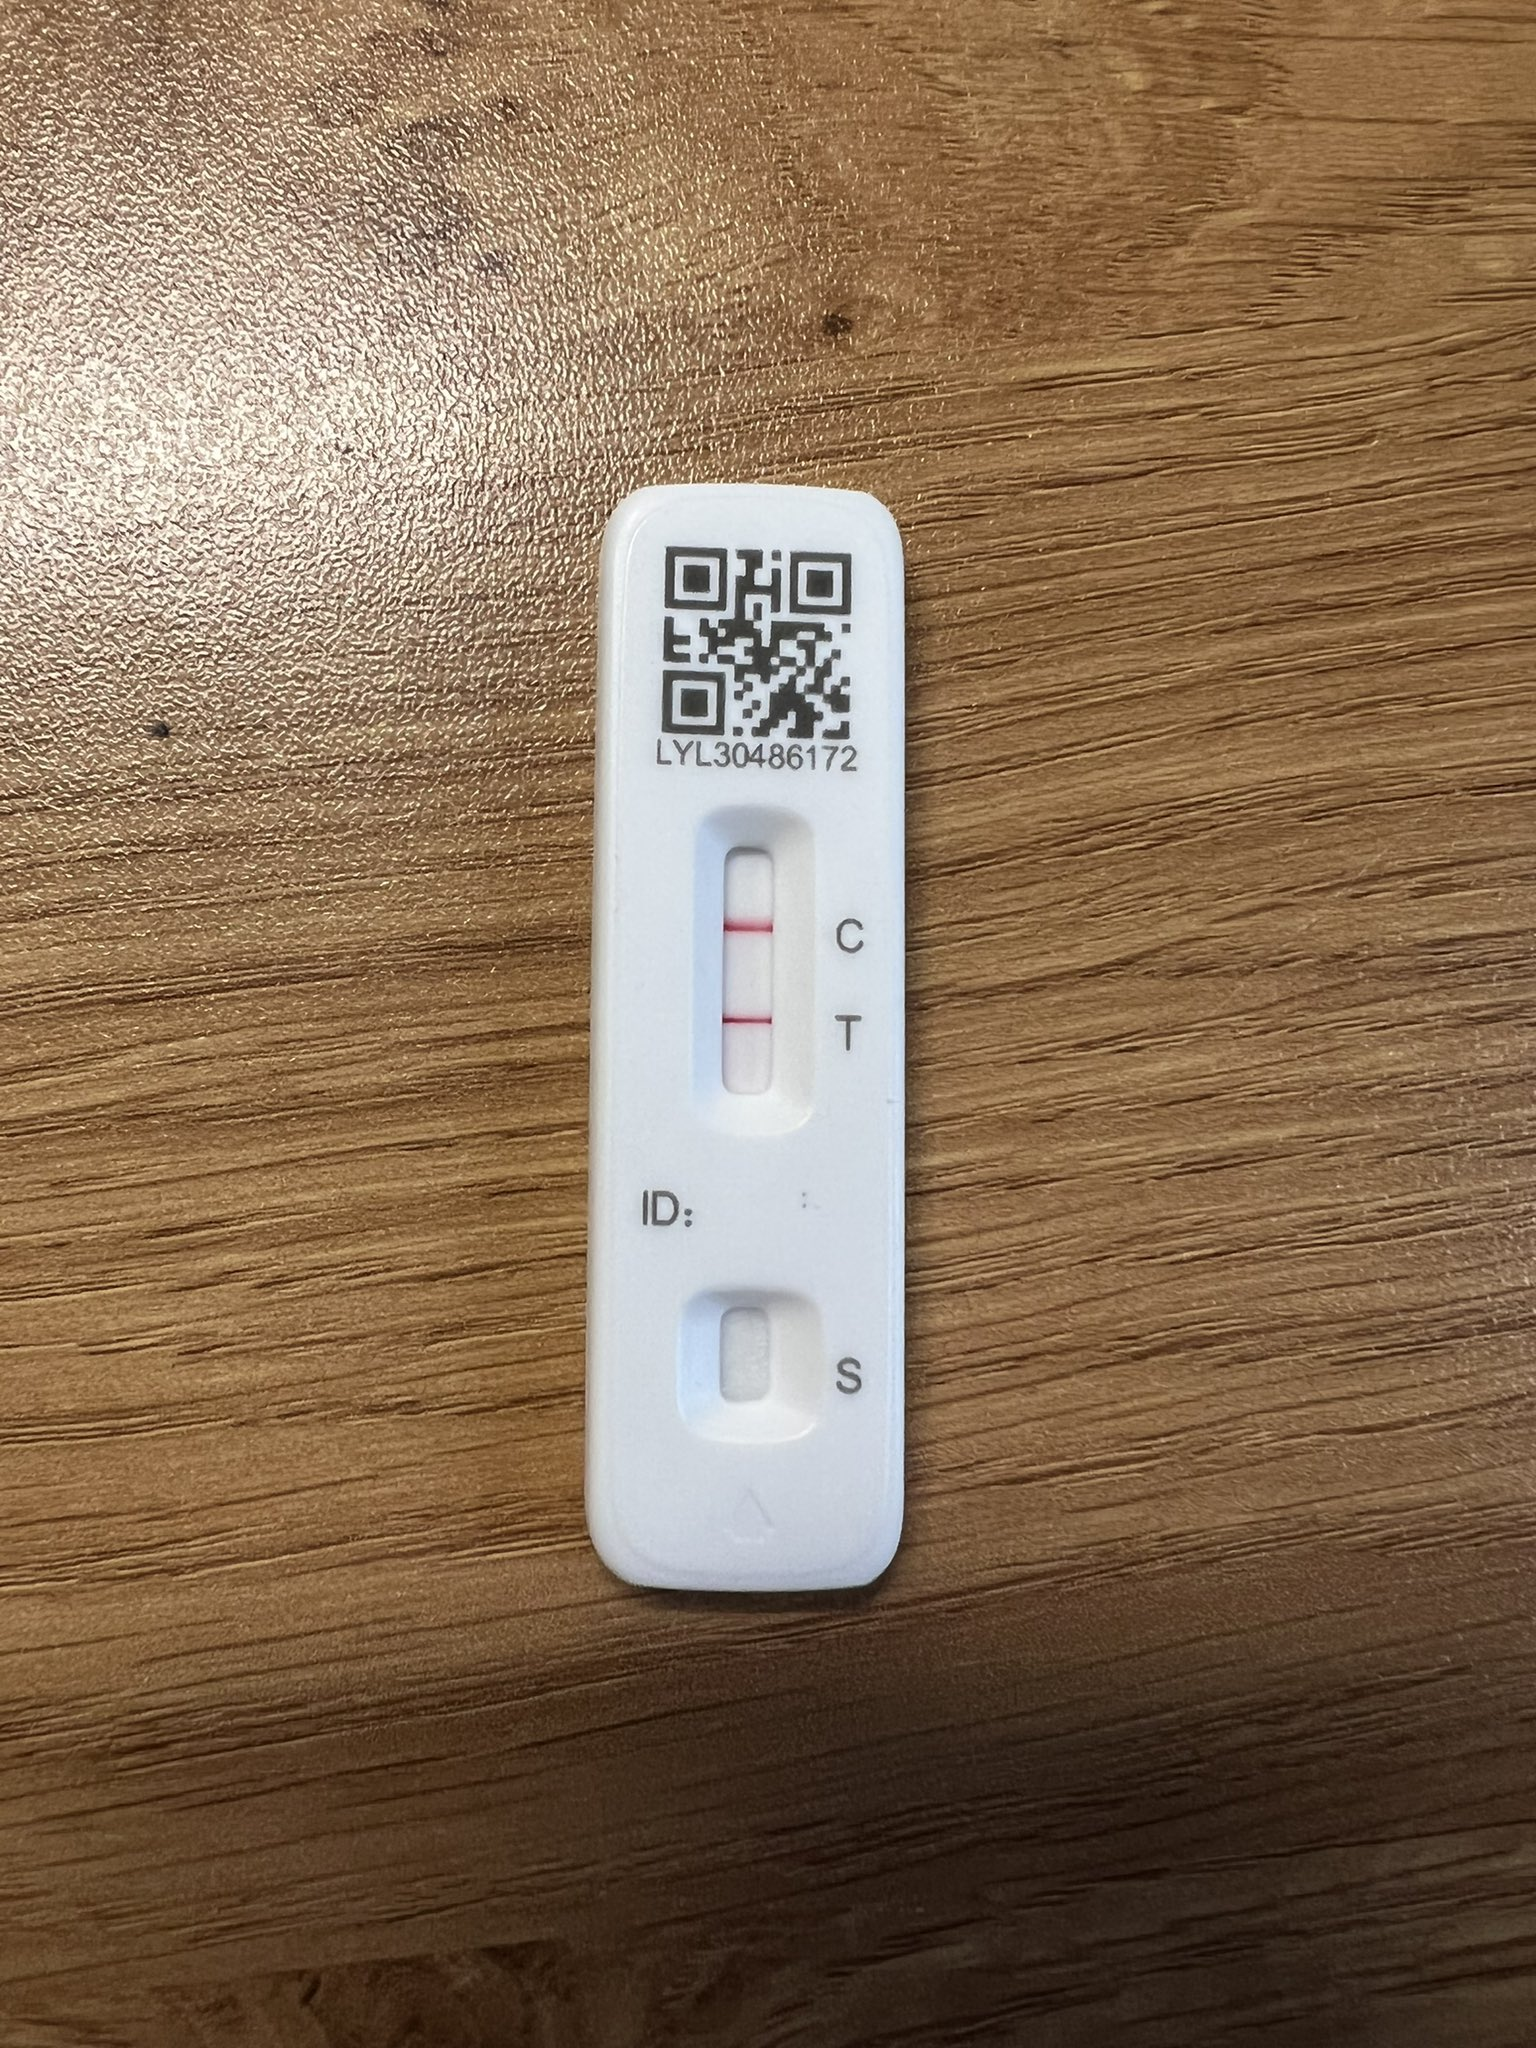positive: (678, 811, 812, 1118)
